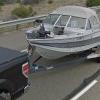Boat: (14, 4, 100, 61)
